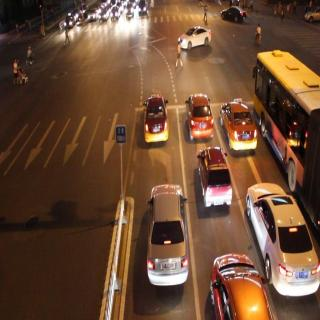BigCar: (256, 52, 320, 161)
Car: (248, 182, 319, 294), (145, 184, 189, 284), (207, 254, 270, 320), (199, 146, 234, 207), (223, 98, 258, 150), (183, 93, 214, 140), (143, 93, 169, 143), (179, 25, 212, 50), (220, 5, 247, 26), (123, 2, 134, 22), (137, 0, 148, 17), (64, 12, 73, 30), (98, 8, 109, 22), (87, 8, 98, 20), (111, 7, 119, 20)
